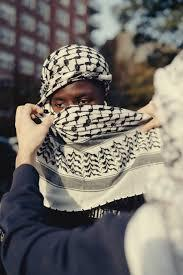scarf-kerchief: (31, 30, 146, 152)
